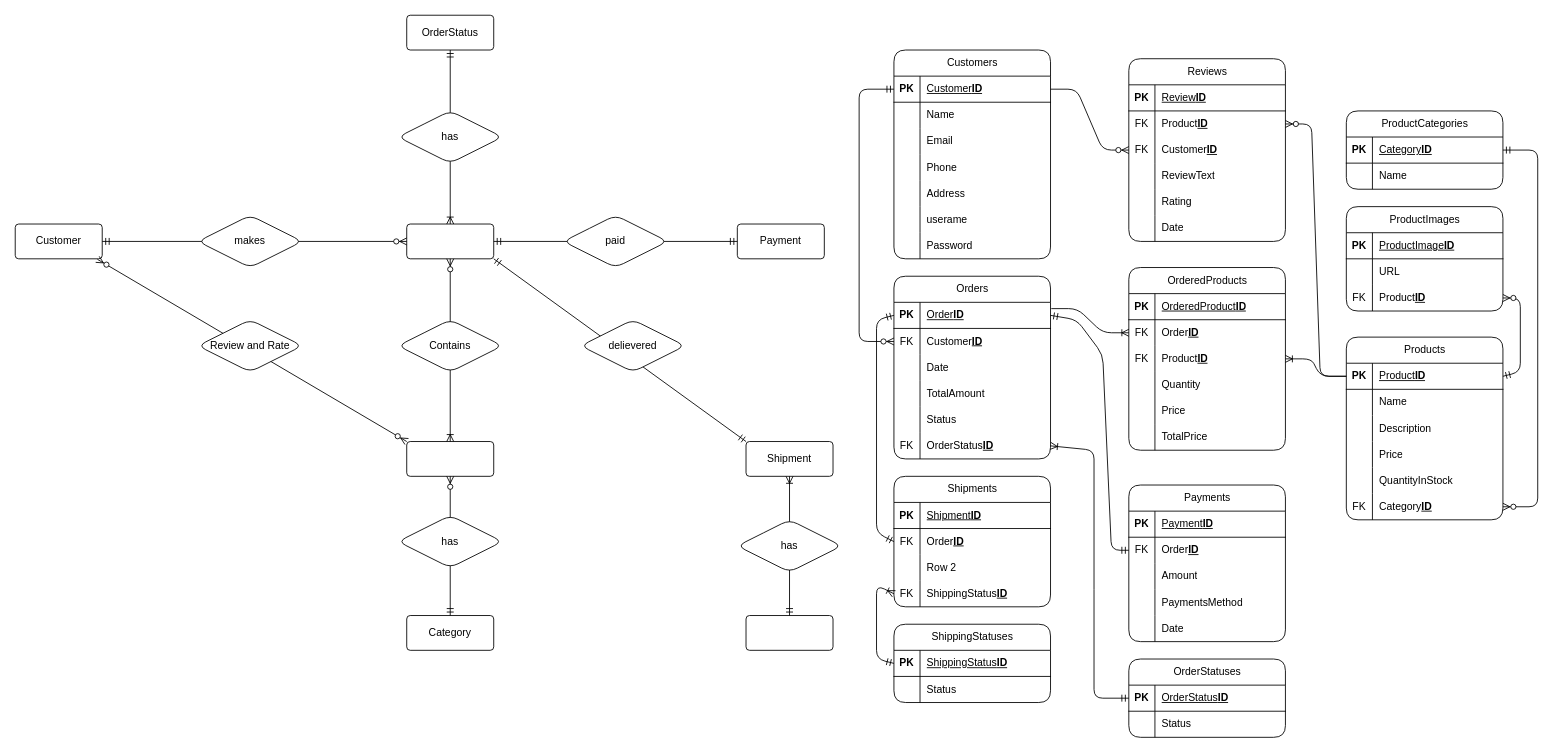
This 1561x753 diagram has some shape labels left out. Each missing label, with the centre of its shape:
"Order" belongs at (450,241).
"Product" belongs at (450,458).
"ShippingStatus" belongs at (789,632).
